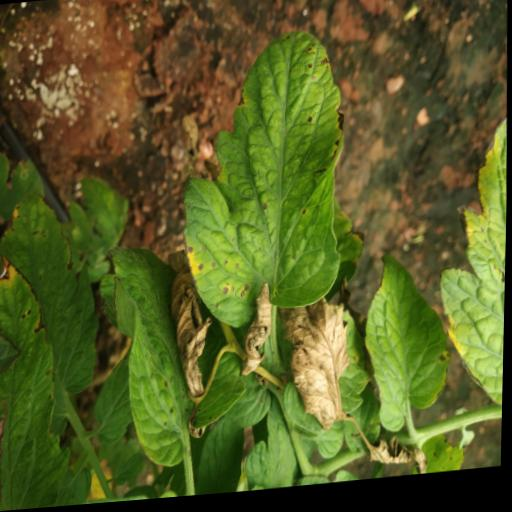Early Blight: (175, 28, 354, 339), (0, 236, 102, 512)
